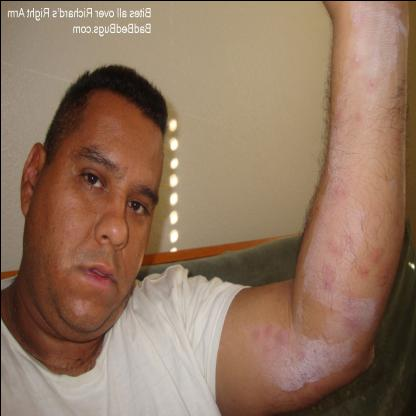Bed Bug: (354, 244, 394, 293), (250, 320, 292, 353), (336, 299, 362, 335), (316, 264, 338, 292), (327, 178, 347, 204), (390, 123, 404, 152), (320, 237, 340, 256), (330, 105, 344, 130), (350, 10, 364, 30), (360, 78, 380, 92), (347, 52, 363, 69), (352, 110, 362, 124)
